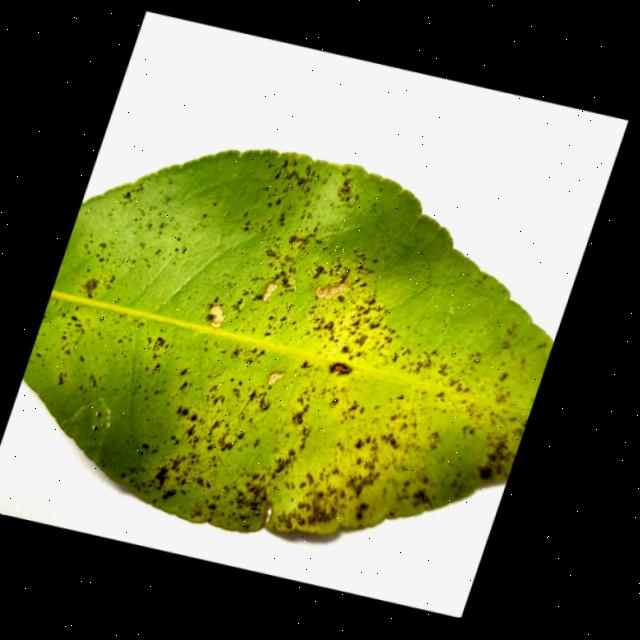melanose: (24, 150, 551, 532)
